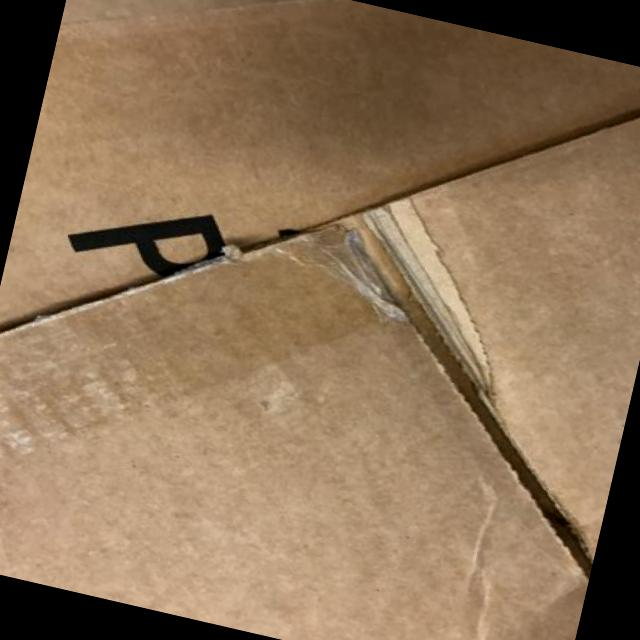cardboard: (0, 228, 587, 639), (0, 0, 639, 326), (366, 119, 639, 553), (61, 0, 270, 22)
